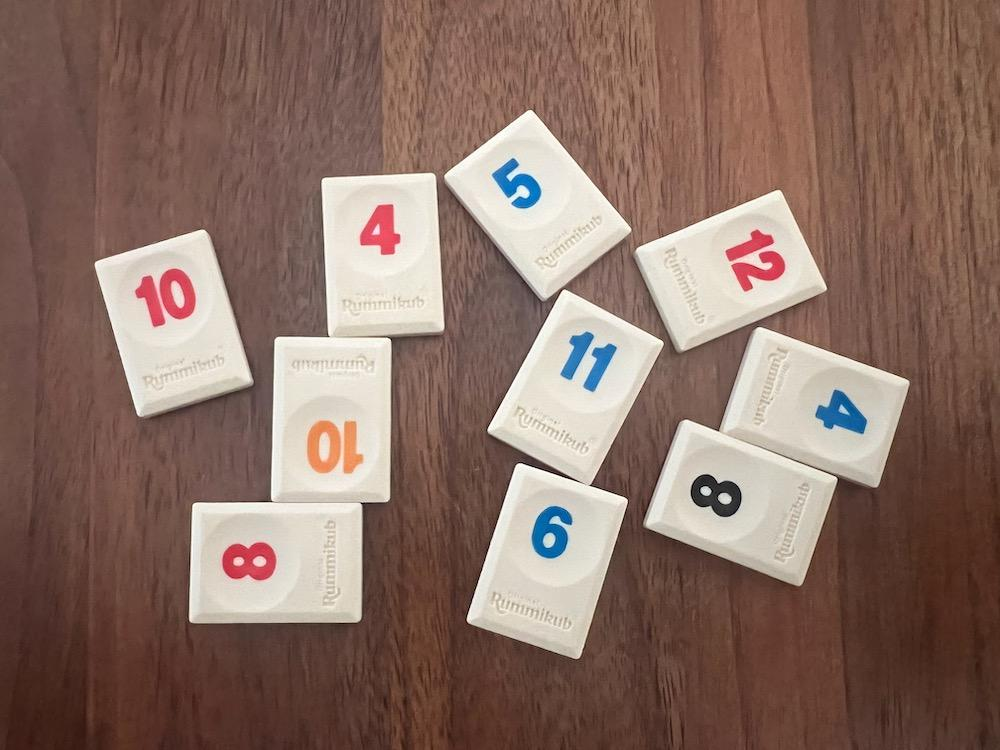black_8: (646, 420, 836, 586)
blue_11: (489, 291, 662, 484)
blue_4: (723, 328, 908, 486)
blue_5: (445, 111, 631, 301)
blue_6: (467, 465, 627, 658)
orange_10: (271, 338, 391, 502)
red_10: (96, 230, 252, 418)
red_12: (635, 191, 826, 352)
red_4: (322, 174, 445, 336)
red_8: (191, 502, 361, 623)
